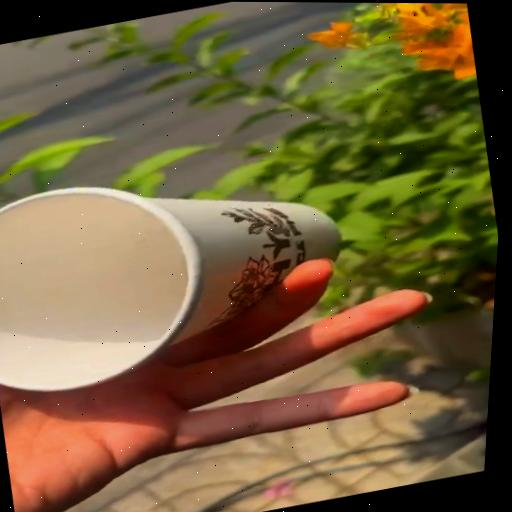Ly_giay: (0, 187, 340, 391)
